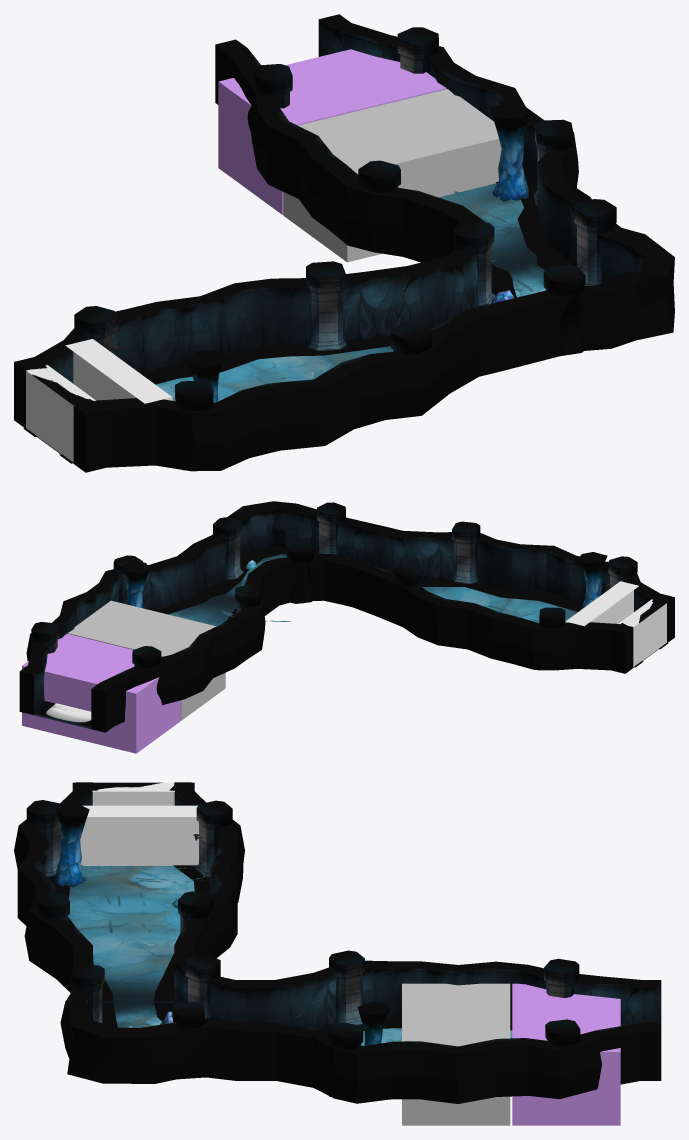
3 renders of one model, top to bottom at view 1: azimuth 30°, elevation 25°; view 2: azimuth 150°, elevation 25°; view 3: azimuth 270°, elevation 25°, orthographic. The views are drawn at different scales.
Parts seen in each view (by area): view 1: Dan1 (×3), AsyncLoad, AreaChanger_30007_50001, Dan2 (×3), Dungeon_033_Pillar_001 (3) (×3), Dungeon_033_Pillar_001 (×3), Dan1_shadow (×3), Dungeon_033_Pillar_001 (2) (×3), Dungeon_011_Object_010 (×2), FieldDungeonEnter 30007_30101, DoorWay_NavMask (1), Dungeon_033_Pillar_001 (1) (×2) (+1 smaller); view 2: Dan1 (×3), AreaChanger_30007_50001, AsyncLoad, Dan2 (×3), Dungeon_033_Pillar_001 (×3), Dan1_shadow (×3), Dungeon_033_Pillar_001 (3) (×3), Dungeon_033_Pillar_001 (2) (×3), Dungeon_011_Object_010 (×2), FieldDungeonEnter 30007_30101, DoorWay_NavMask (1), Dungeon_033_Pillar_001 (1) (×2) (+2 smaller); view 3: Dan1 (×3), Dan2 (×2), AsyncLoad, AreaChanger_30007_50001, FieldDungeonEnter 30007_30101, Dungeon_033_Pillar_001 (2) (×3), Dungeon_011_Object_010 (×2), Dungeon_033_Pillar_001 (3) (×3), Dungeon_033_Pillar_001 (×3), Dungeon_033_Pillar_001 (1) (×2), Dan1_shadow (×2), DoorWay_NavMask (1) (+1 smaller).
Part boxes in pixels (x1,y1,x2,y2): Dan1 (×3): (14, 14, 674, 472); AsyncLoad: (283, 89, 501, 262); AreaChanger_30007_50001: (218, 49, 446, 214); Dan2 (×3): (156, 183, 546, 401); Dungeon_033_Pillar_001 (3) (×3): (253, 64, 616, 351); Dungeon_033_Pillar_001 (×3): (390, 27, 585, 406); Dan1_shadow (×3): (23, 182, 571, 463); Dungeon_033_Pillar_001 (2) (×3): (74, 160, 494, 353); Dungeon_011_Object_010 (×2): (187, 103, 533, 402); FieldDungeonEnter 30007_30101: (65, 339, 172, 403); DoorWay_NavMask (1): (26, 365, 95, 462); Dungeon_033_Pillar_001 (1) (×2): (175, 119, 573, 470); Dan1 (×3): (19, 501, 674, 732); AreaChanger_30007_50001: (22, 634, 180, 753); AsyncLoad: (67, 600, 225, 720); Dan2 (×3): (34, 554, 577, 728); Dungeon_033_Pillar_001 (×3): (31, 502, 480, 653); Dan1_shadow (×3): (35, 545, 668, 727); Dungeon_033_Pillar_001 (3) (×3): (132, 517, 423, 668); Dungeon_033_Pillar_001 (2) (×3): (235, 541, 565, 628); Dungeon_011_Object_010 (×2): (122, 552, 607, 610); FieldDungeonEnter 30007_30101: (565, 581, 638, 626); DoorWay_NavMask (1): (618, 599, 666, 667); Dungeon_033_Pillar_001 (1) (×2): (113, 555, 637, 604); Dan1 (×3): (14, 782, 661, 1103); Dan2 (×2): (67, 866, 194, 1027); AsyncLoad: (402, 983, 510, 1125); AreaChanger_30007_50001: (512, 983, 620, 1125); FieldDungeonEnter 30007_30101: (80, 805, 198, 865); Dungeon_033_Pillar_001 (2) (×3): (185, 800, 364, 1025); Dungeon_011_Object_010 (×2): (53, 803, 389, 1045); Dungeon_033_Pillar_001 (3) (×3): (172, 891, 579, 1077); Dungeon_033_Pillar_001 (×3): (35, 892, 580, 1094); Dungeon_033_Pillar_001 (1) (×2): (26, 800, 363, 1097); Dan1_shadow (×2): (47, 865, 210, 1027); DoorWay_NavMask (1): (92, 782, 174, 805).
Size of what is drawn, in the model's own units: 24.02 by 4.44 by 24.43.
